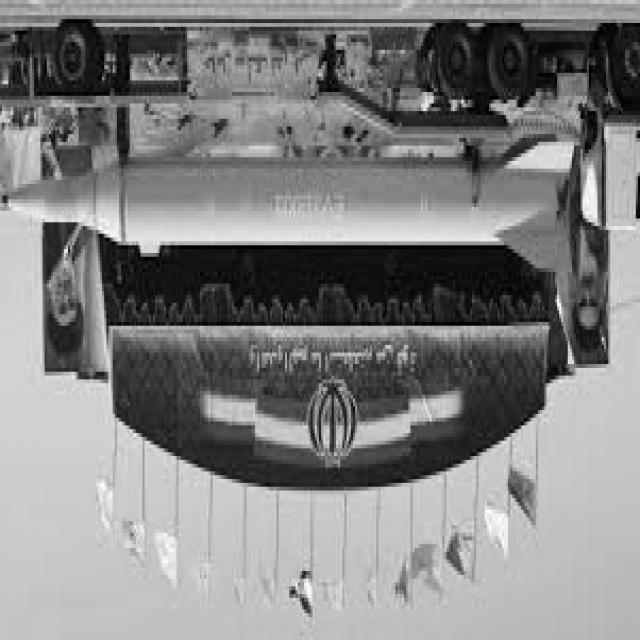Missile: (0, 139, 591, 278)
